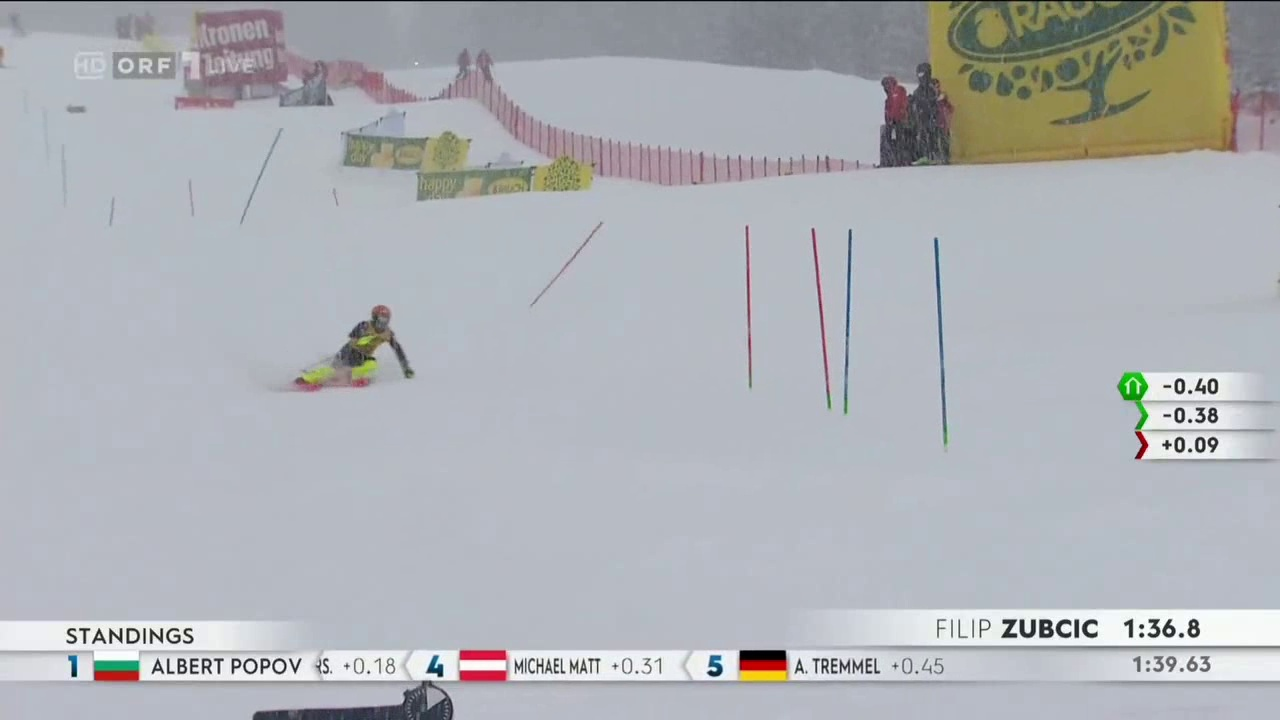kronenzeitung: (193, 18, 284, 86)
